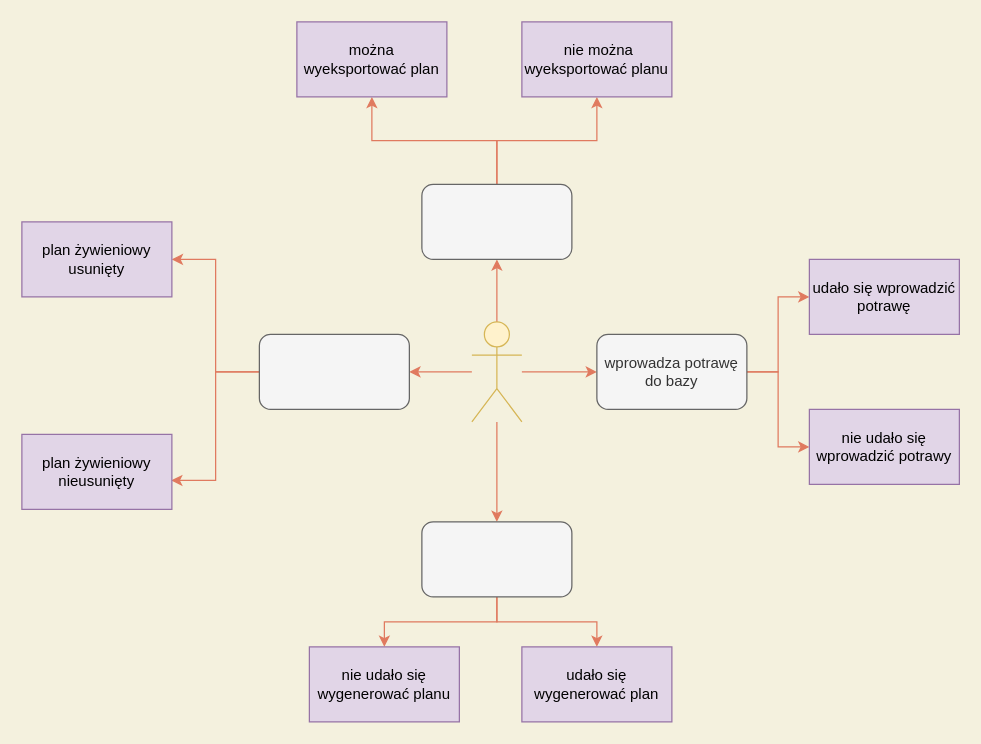
Image size: 981x744. Some labels were removed from this diagram. Each missing label, with the centre of its shape:
"eksportuje plan żywieniowy" goes at pixel 496 221.
"generuje plan żywieniowy" goes at pixel 496 559.
"User" goes at pixel 496 371.
"usuwa plan żywieniowy" goes at pixel 333 371.
